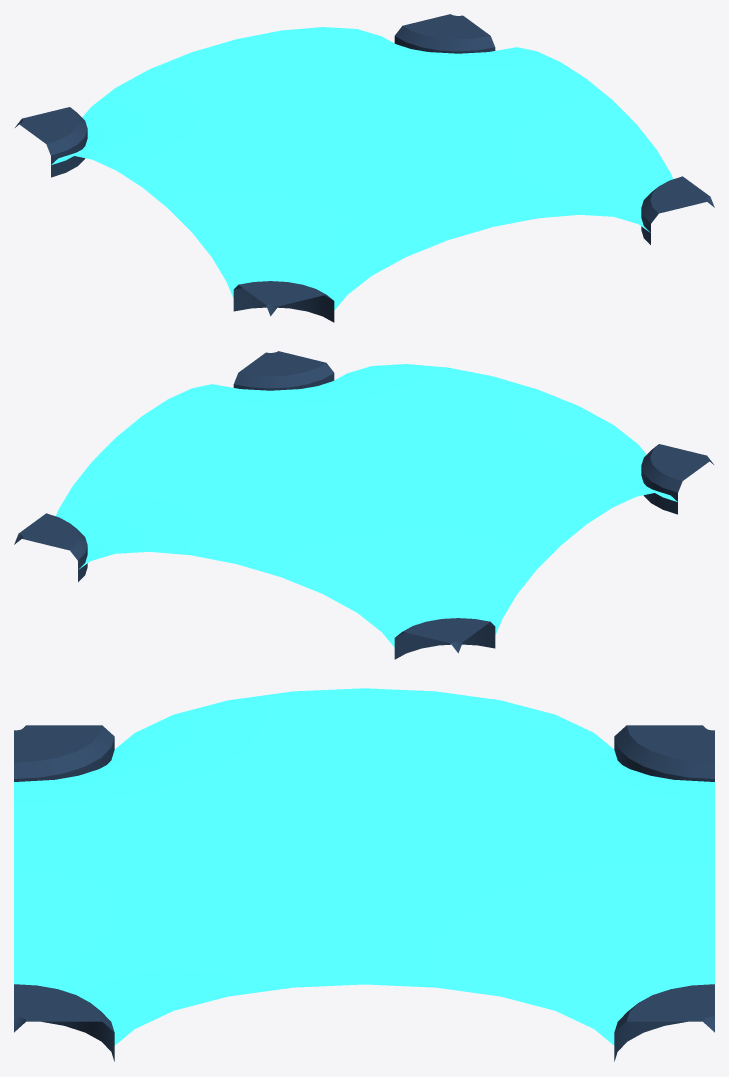
The model's file is Light_Trim_01_RoundShortCrossX.fbx.
3 views of the same model, one above another, from view 1: azimuth 30°, elevation 25°; view 2: azimuth 150°, elevation 25°; view 3: azimuth 270°, elevation 25° (orthographic). The views are drawn at different scales.
Parts seen in each view (by area): view 1: Light_Trim_01_RoundShortCrossX.001; view 2: Light_Trim_01_RoundShortCrossX.001; view 3: Light_Trim_01_RoundShortCrossX.001.
Boxes of the visible parts, x1,y1,x2,y2 form: Light_Trim_01_RoundShortCrossX.001: (15, 14, 714, 322); Light_Trim_01_RoundShortCrossX.001: (14, 351, 713, 659); Light_Trim_01_RoundShortCrossX.001: (14, 688, 714, 1061).
Size of the model in its own units: 0.1 by 0.0123 by 0.1.
